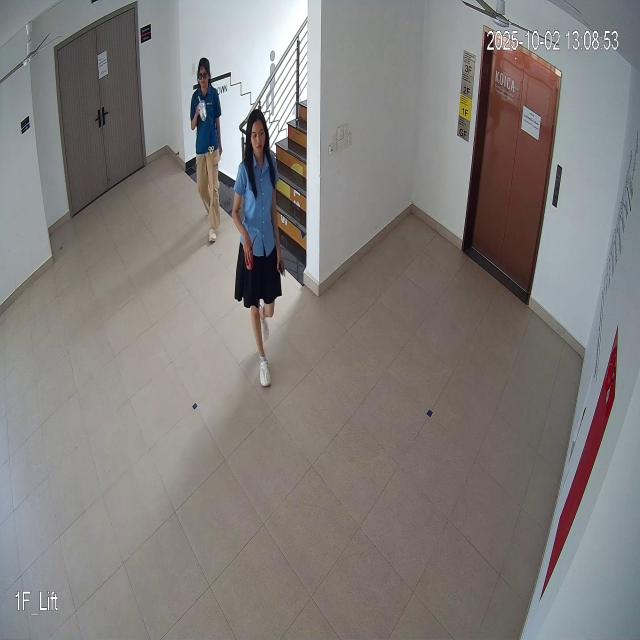face: (244, 110, 273, 167)
